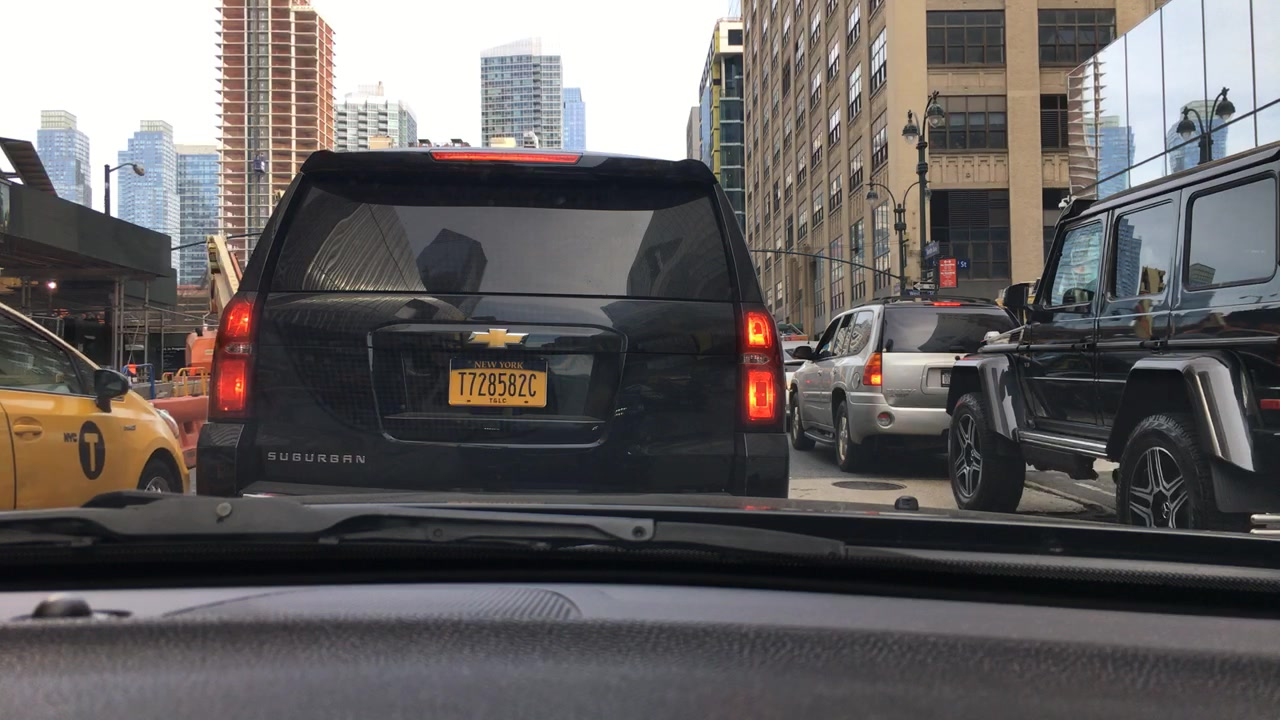licence: (444, 353, 551, 412)
